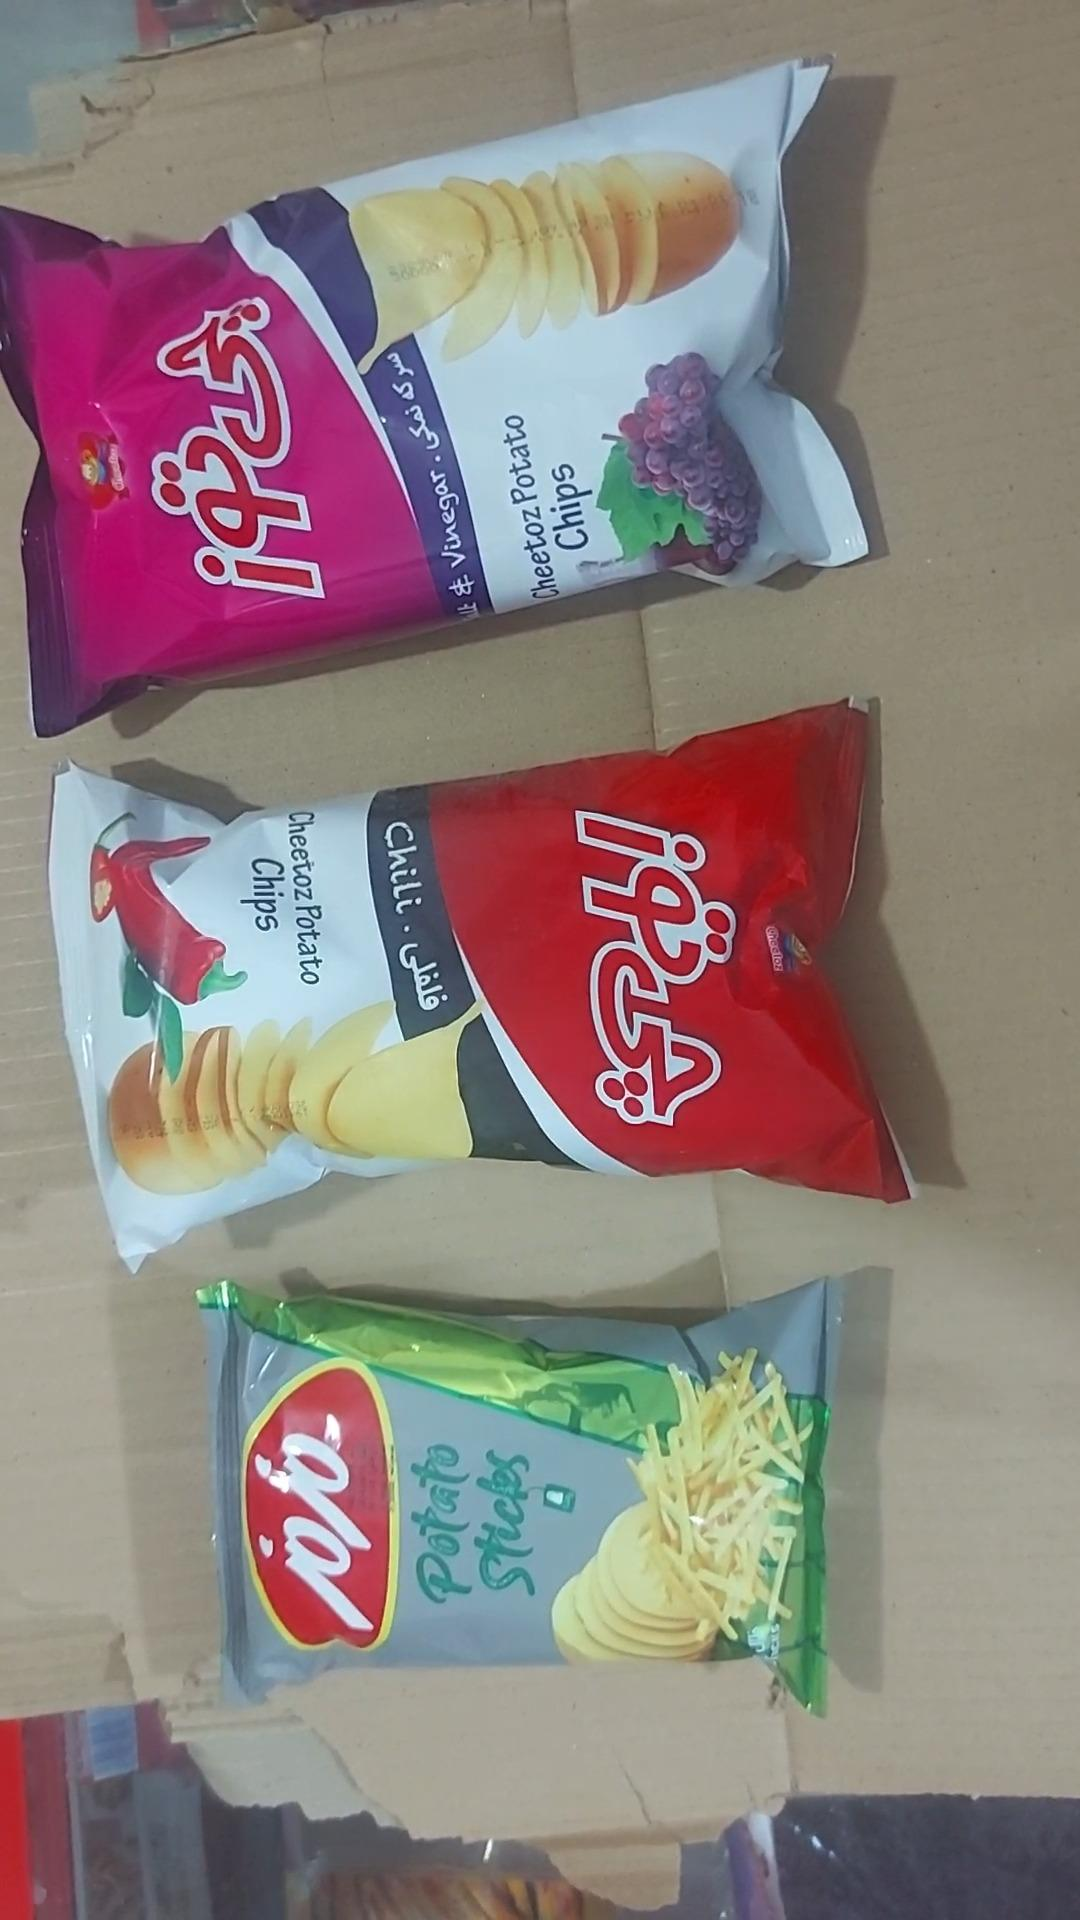Cheetoz chili chips: (47, 702, 914, 1275)
Cheetoz vinegar chips: (0, 59, 873, 742)
Maz Maz potato sticks: (195, 1279, 841, 1716)
